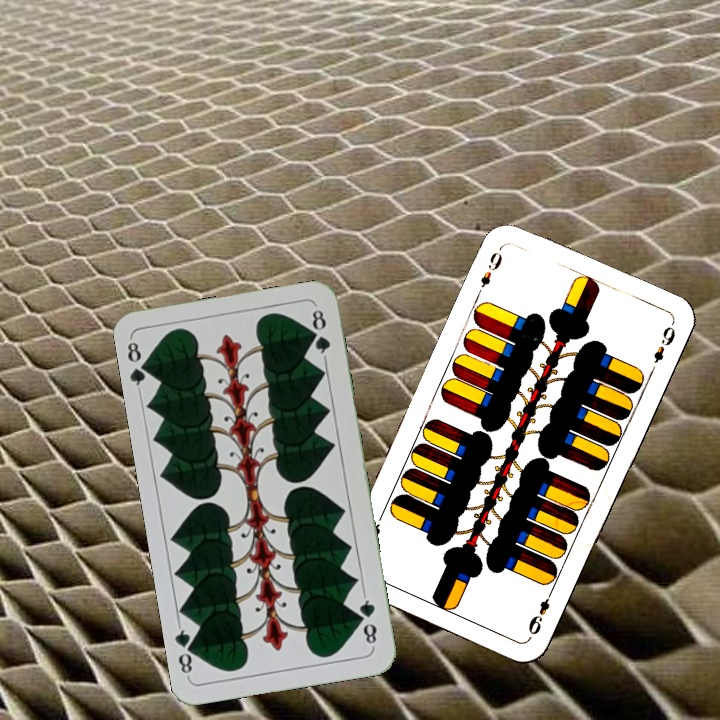E9: (524, 584, 557, 638), (473, 248, 505, 299)
G8: (123, 335, 154, 394), (354, 591, 380, 650)
